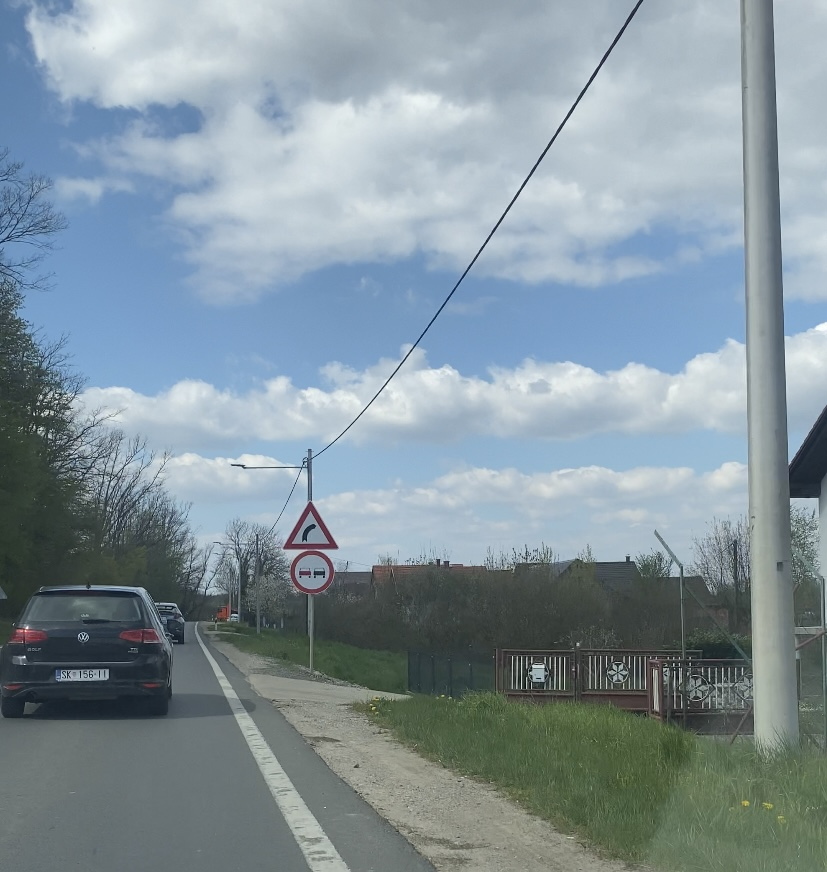Zabrana pretjecanja: (290, 550, 335, 593)
